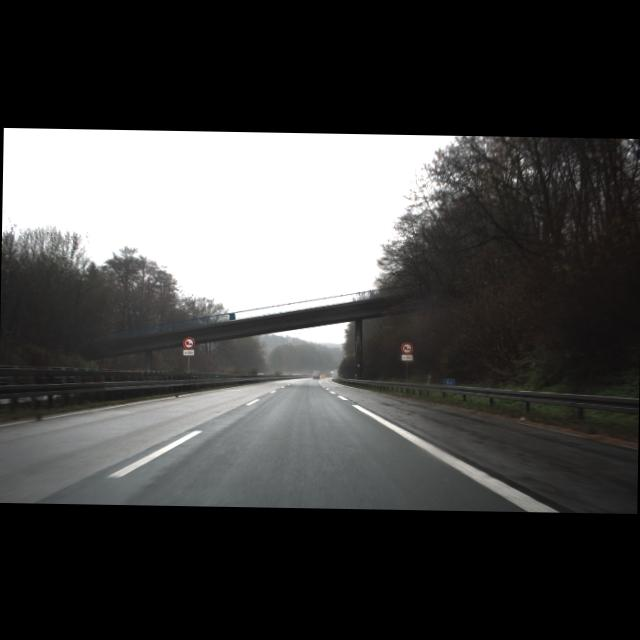prohibitory: (182, 336, 195, 348), (400, 340, 412, 353)
